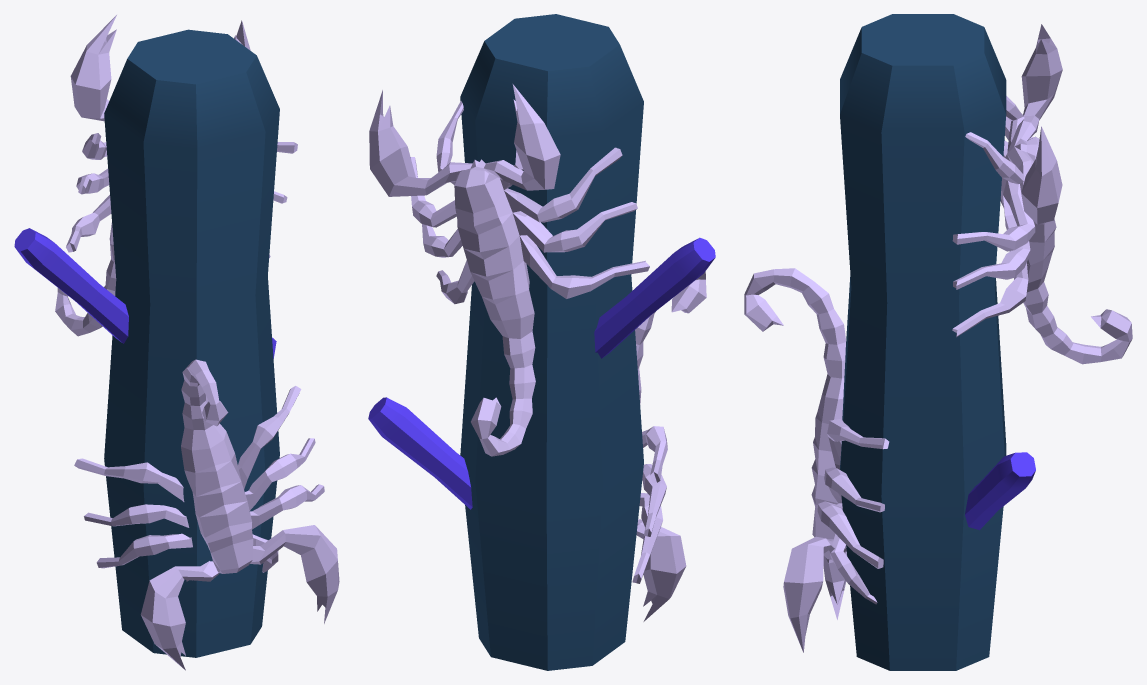
File: 033_Scorpion.fbx
The picture shows the model from 3 angles, left to right: view 1: azimuth 30°, elevation 25°; view 2: azimuth 150°, elevation 25°; view 3: azimuth 270°, elevation 25°; orthographic projection. The views are drawn at different scales.
Visible parts, largest first — view 1: scorpiion; view 2: scorpiion; view 3: scorpiion.
Part boxes in pixels (left/top/right/bottom): scorpiion: left=14, top=15, right=339, bottom=670; scorpiion: left=368, top=14, right=715, bottom=670; scorpiion: left=744, top=14, right=1132, bottom=670.
Size of the model in its own units: 53.59 by 101 by 58.38.
